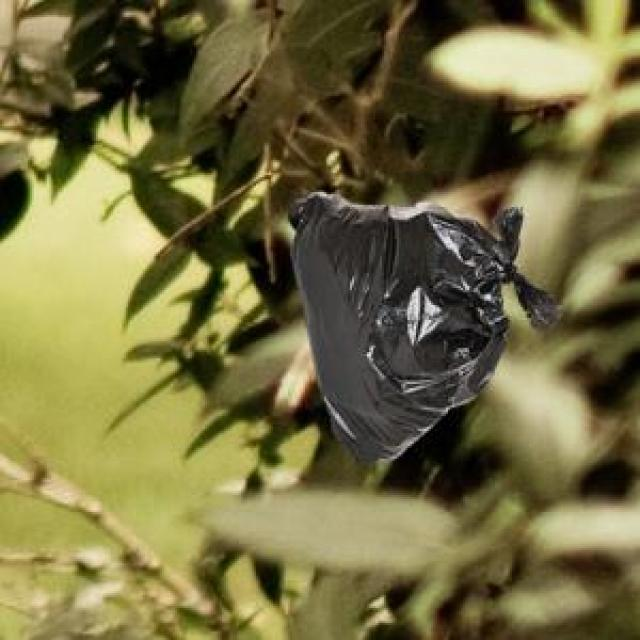waste: (292, 192, 558, 461)
